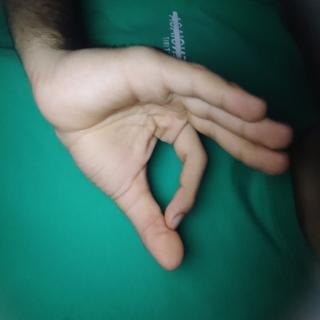Space: (25, 26, 209, 320)
